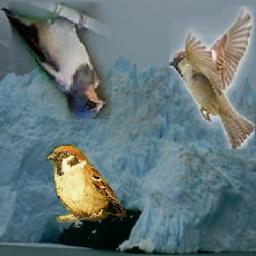Sparrow: (169, 7, 255, 150), (45, 145, 125, 224)
Swallow: (0, 3, 110, 120)
